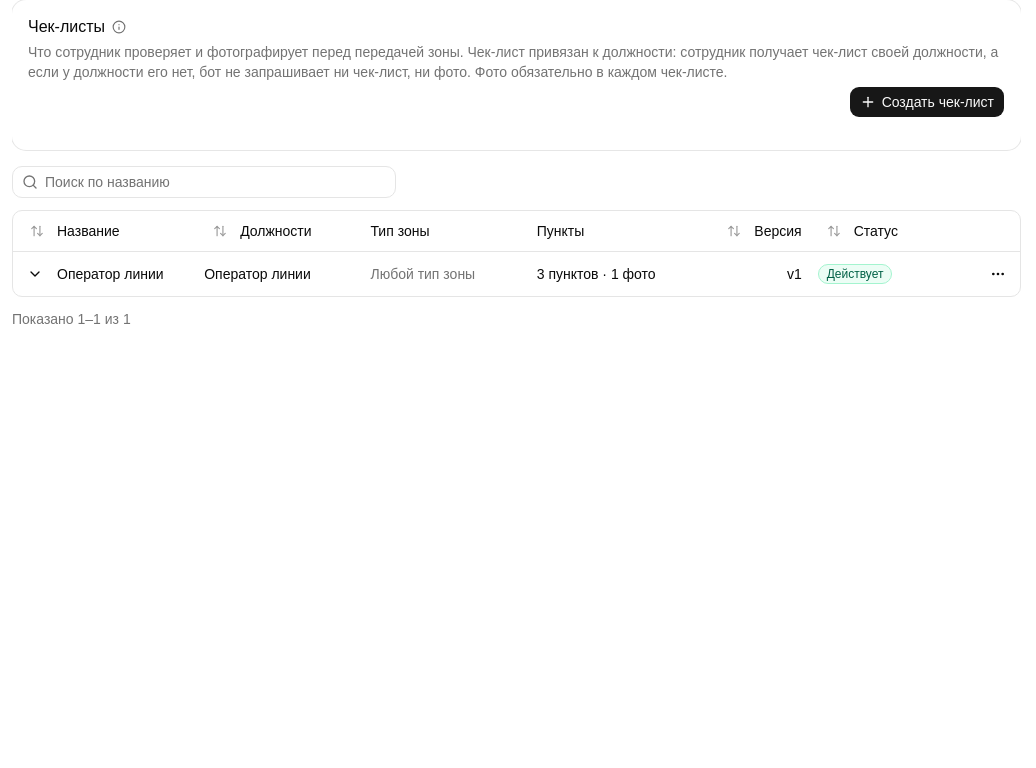
it: ChecklistsTab › lists checklists with their item summary and shows the bot preview on click
The image size is (1036, 768).
Check: the text "3 пунктов · 1 фото" is shown, box x1=537 y1=264 x2=656 y2=284
What coordinates should you click on to do the following:
click the 1st text "Оператор линии"
I would click on:
 (110, 274)
Its box is x1=57 y1=264 x2=164 y2=284.
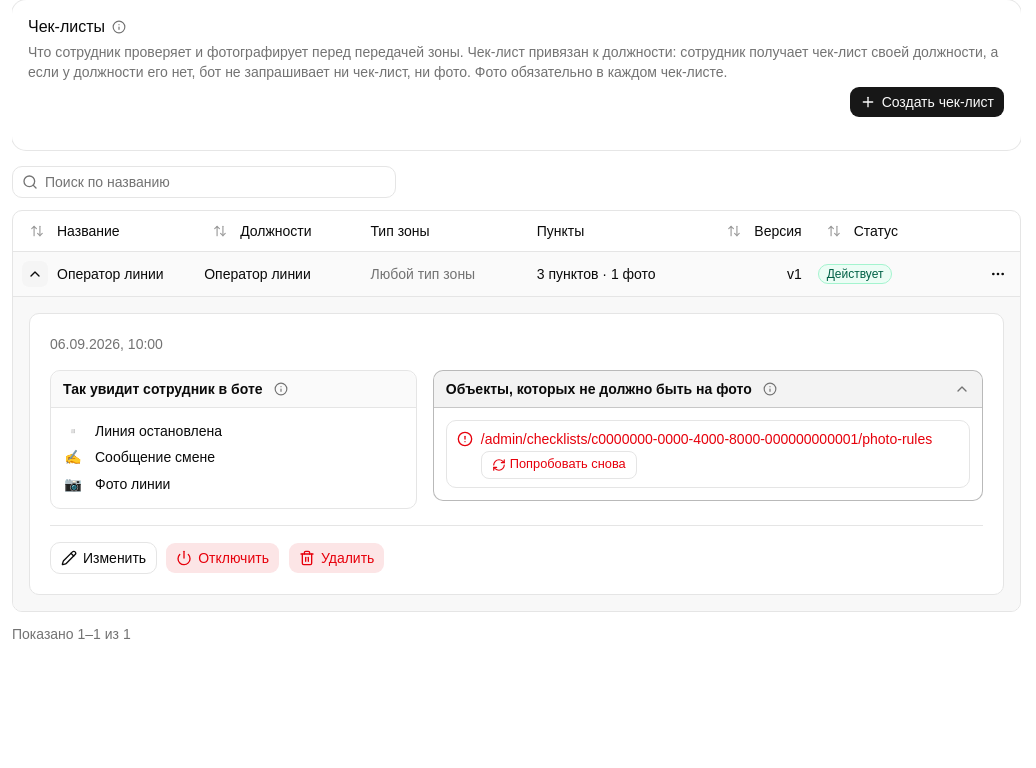
Check: the heading "Так увидит сотрудник в боте" is shown, box x1=51 y1=370 x2=416 y2=408
Check: the text "Фото линии" is shown, box x1=95 y1=476 x2=170 y2=492
Check: the button "Изменить" is shown, box x1=50 y1=542 x2=157 y2=574
What coordinates should you click on to do the following:
click the 1st text "Оператор линии"
I would click on:
 (110, 274)
Its box is x1=57 y1=264 x2=164 y2=284.
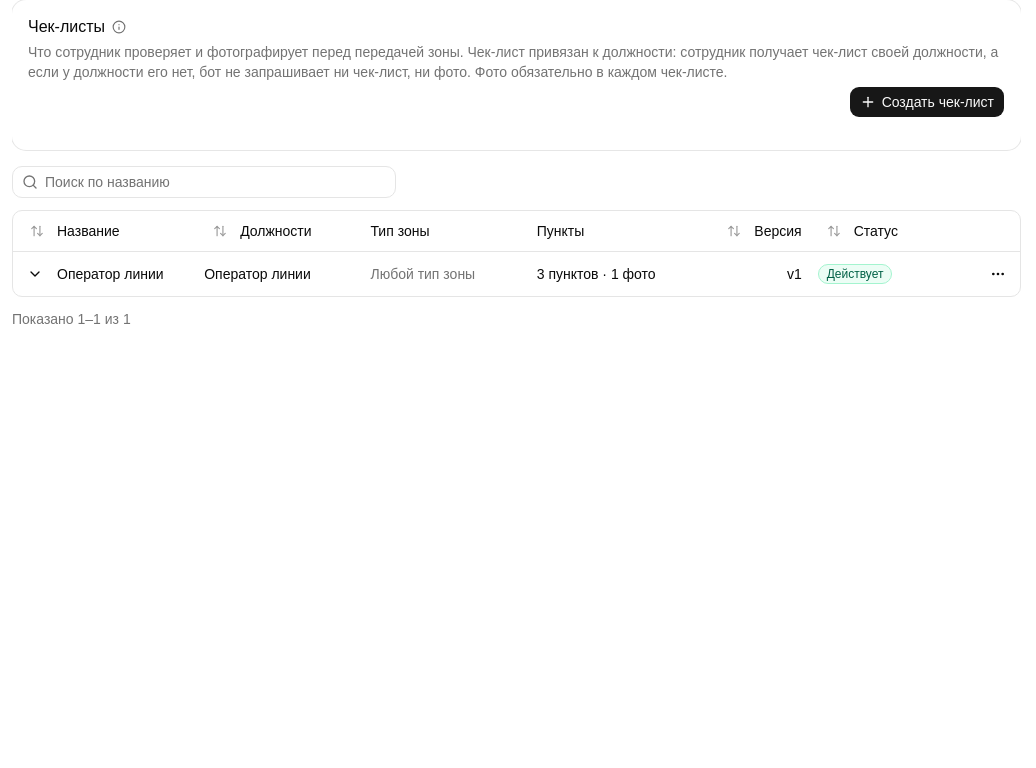
Check: the element with test id "checklist-detail" is gone
